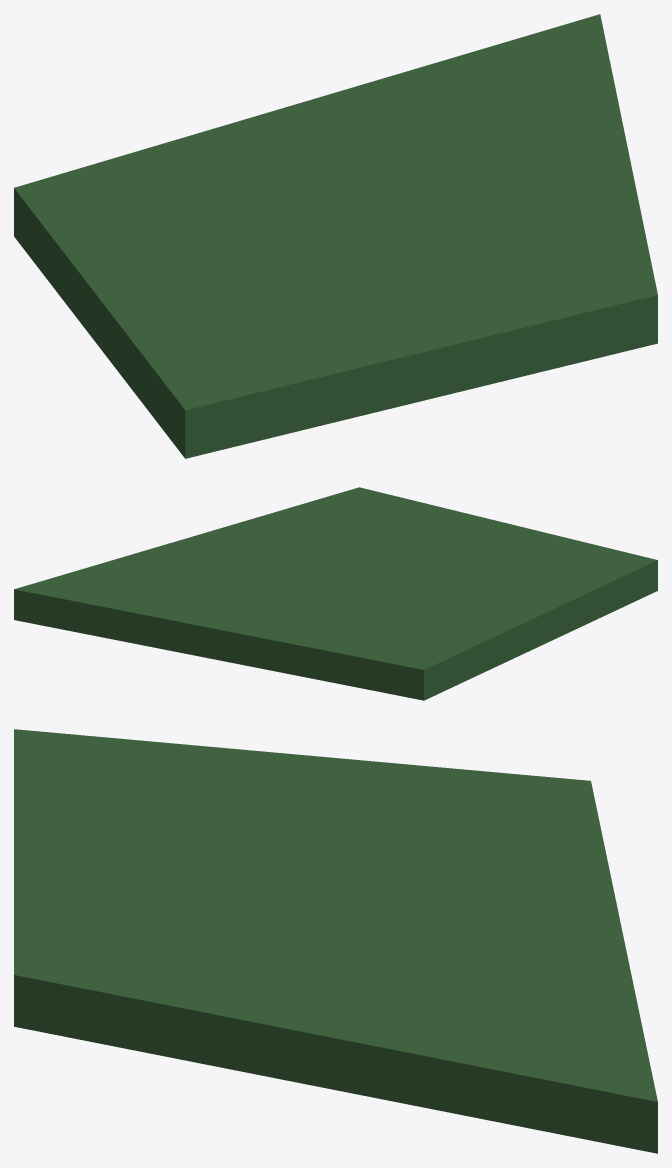
Rendered from x_proval_00_150_1_rmstrd.fbx.
3 renders of one model, top to bottom at view 1: azimuth 30°, elevation 25°; view 2: azimuth 150°, elevation 25°; view 3: azimuth 270°, elevation 25°, orthographic. The views are drawn at different scales.
Parts seen in each view (by area): view 1: x_proval_00_150_1_rmstrd1; view 2: x_proval_00_150_1_rmstrd1; view 3: x_proval_00_150_1_rmstrd1.
Part boxes in pixels (bbox=[...]): x_proval_00_150_1_rmstrd1: bbox=[14, 14, 657, 458]; x_proval_00_150_1_rmstrd1: bbox=[14, 487, 657, 700]; x_proval_00_150_1_rmstrd1: bbox=[14, 729, 657, 1153].
Bounding box in the file's own units: 3.09 × 0.2 × 2.25.
